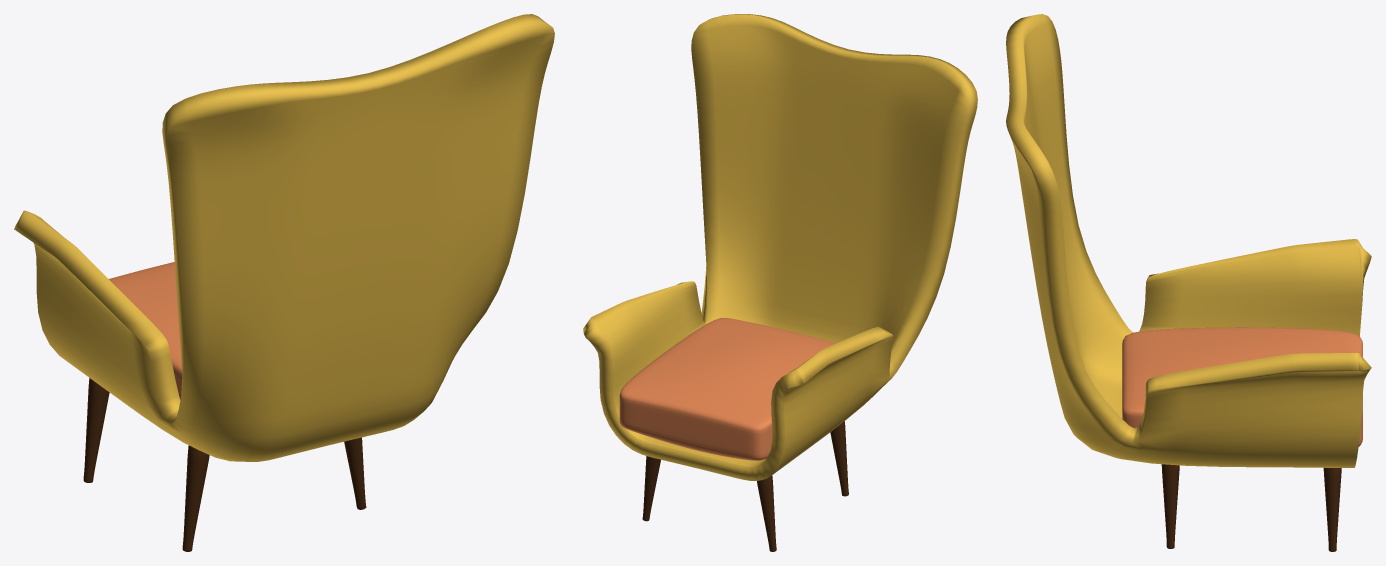
Rendered from main chair.fbx.
The picture shows the model from 3 angles, left to right: view 1: azimuth 30°, elevation 25°; view 2: azimuth 150°, elevation 25°; view 3: azimuth 270°, elevation 25°; orthographic projection. The views are drawn at different scales.
Visible parts, largest first — view 1: chair, legs, cushion; view 2: chair, cushion, legs; view 3: chair, cushion, legs.
Part boxes in pixels (x1,y1,x2,y2): chair: (14,14,554,461); legs: (83,378,366,551); cushion: (109,262,182,399); chair: (583,14,977,480); cushion: (619,317,836,460); legs: (642,421,848,551); chair: (1006,14,1371,467); cushion: (1122,327,1362,446); legs: (1161,464,1341,551).
Size of the model in its own units: 128 by 171 by 128.
